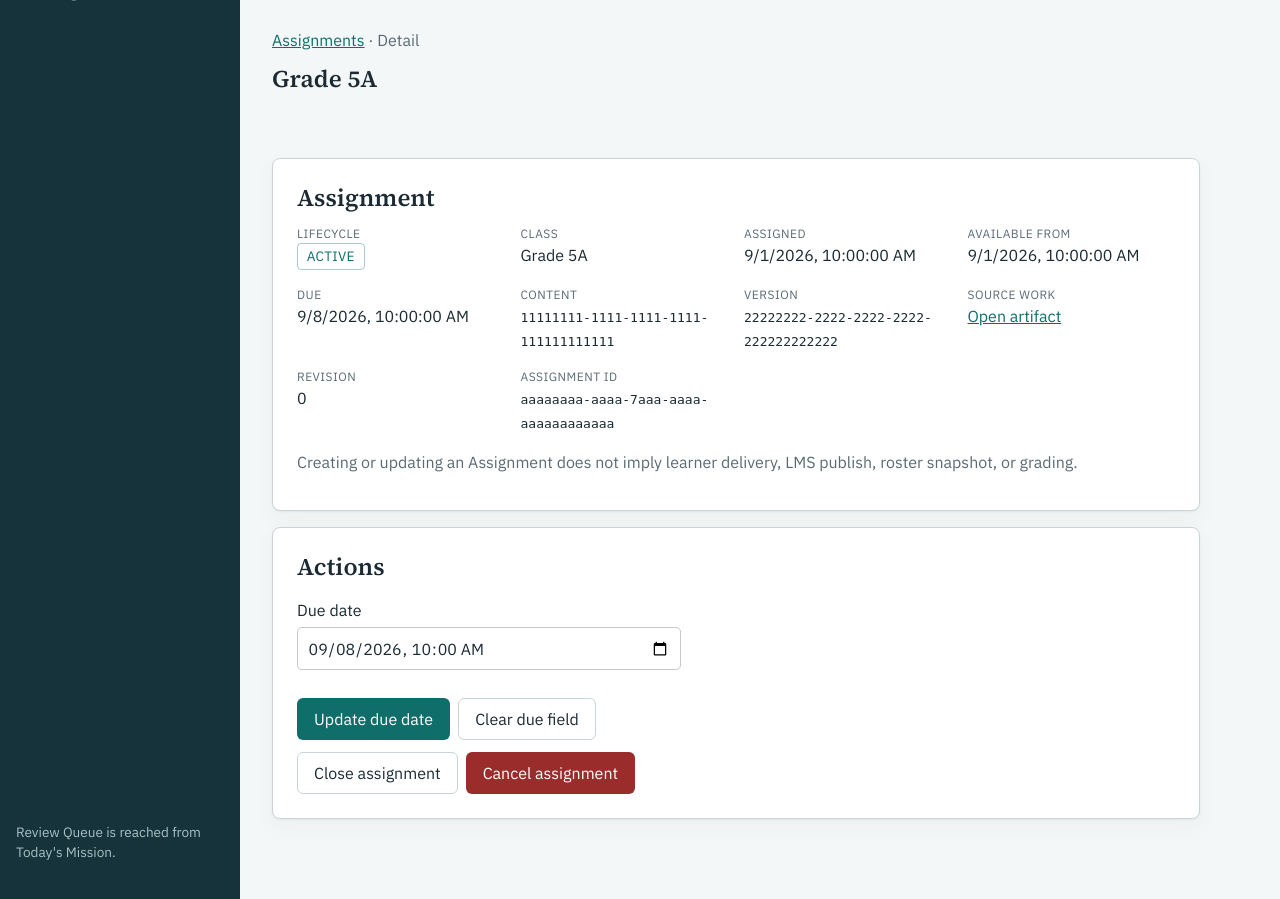
Test: TOS-DEV06-I04 Assignment detail mutations › close confirmation uses fresh pre-close GET ETag
(page scrolled)
Click the button "Close assignment".
click(377, 773)  # box [297,752,458,794]
(page scrolled)
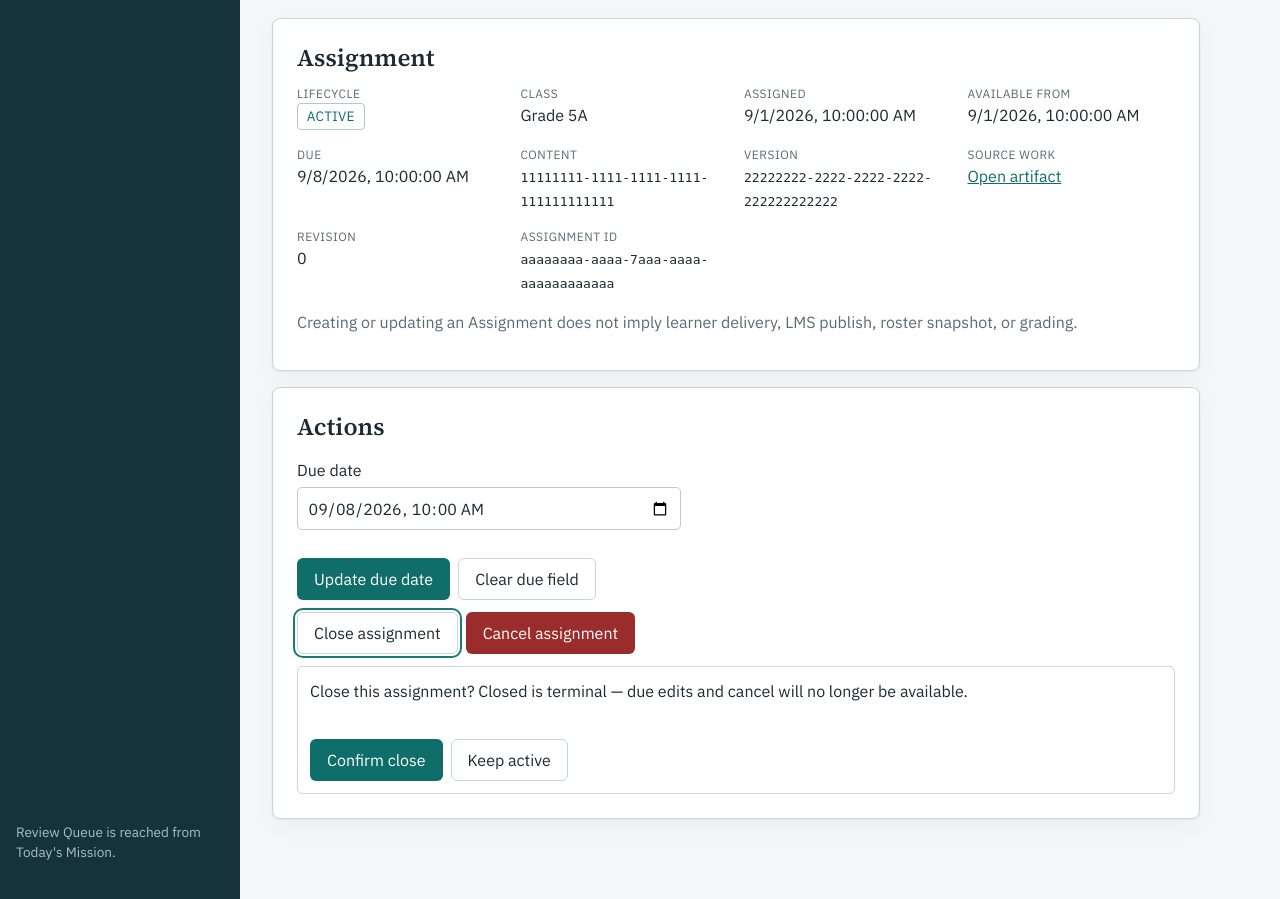
Click the button "Confirm close".
click(376, 760)  # box [310,739,443,781]
(page scrolled)
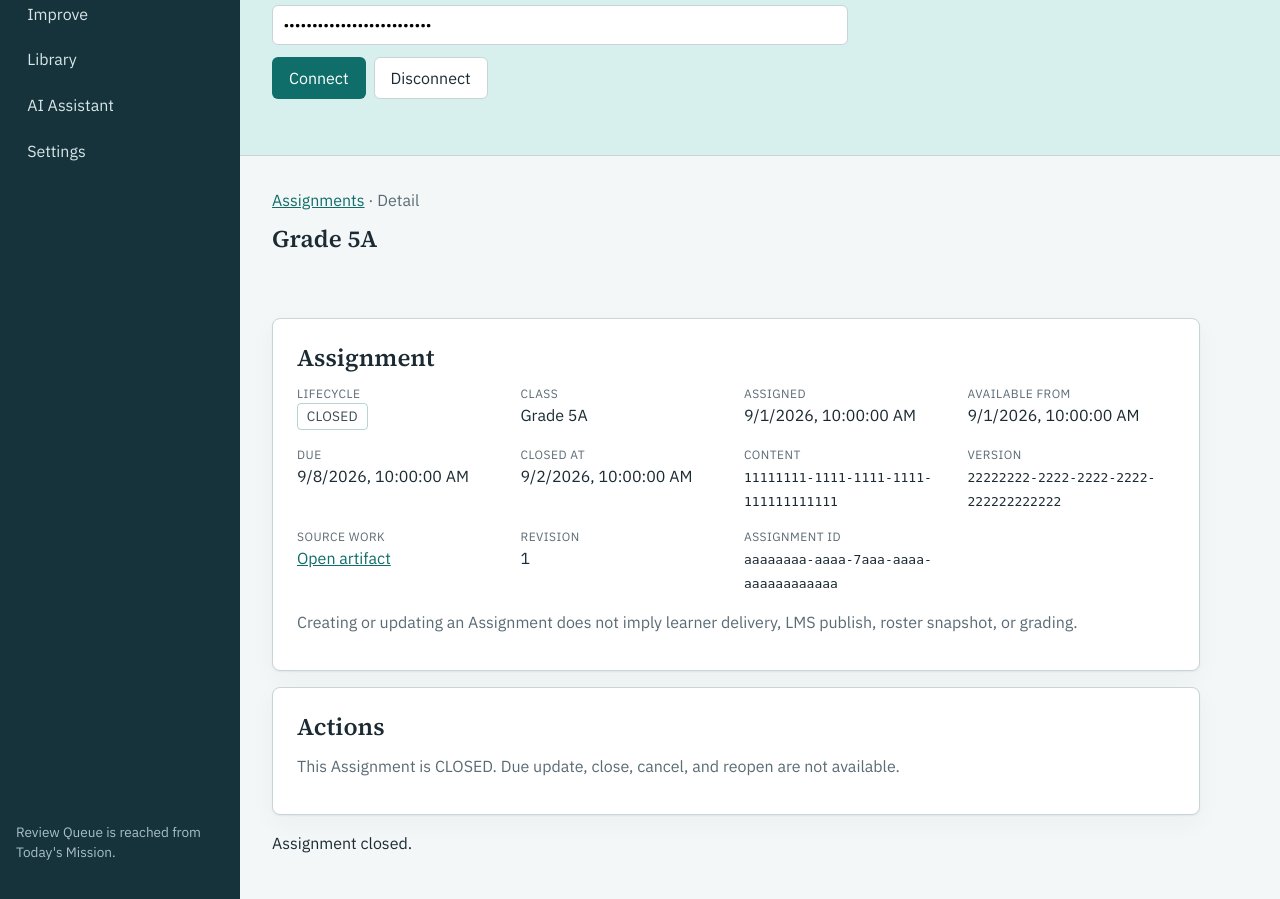
Check: the text "Assignment closed." is shown, box [272,833,412,853]
